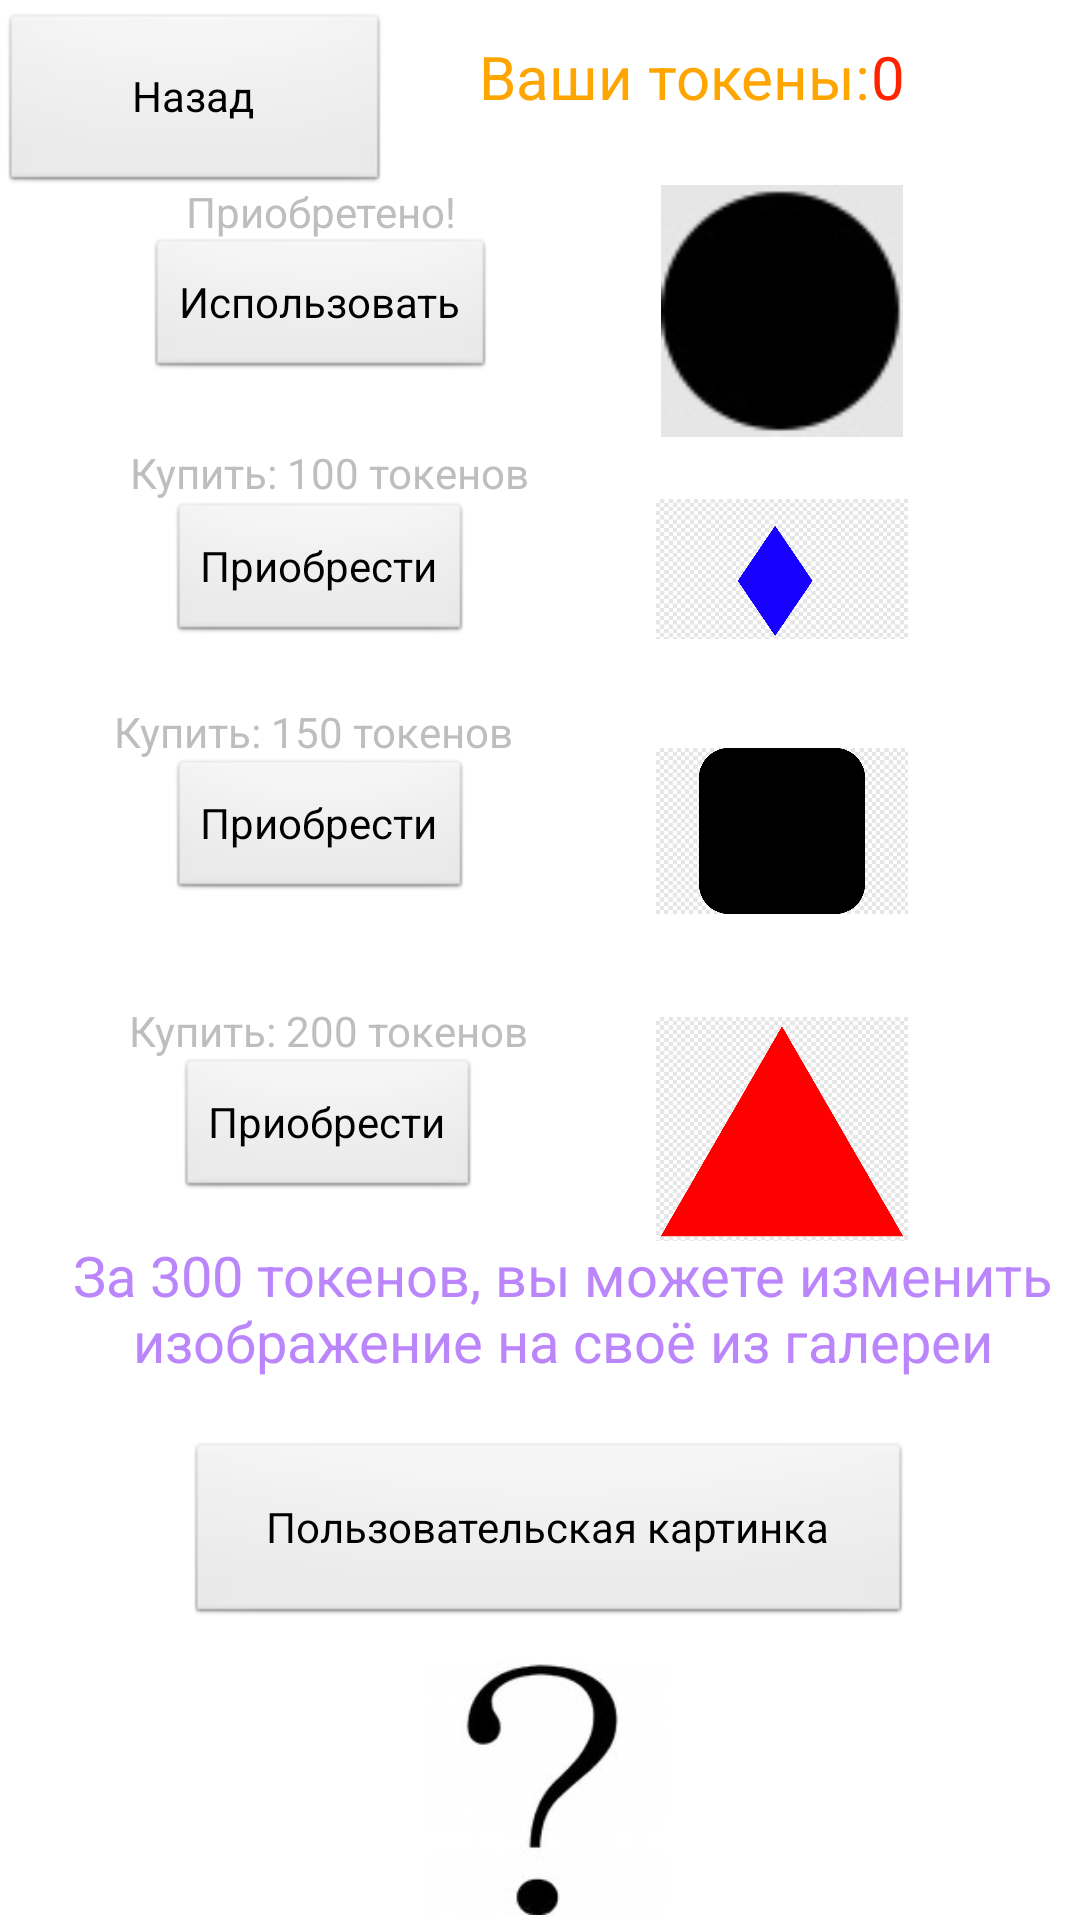

Icons on this 1080 × 1920 Android screen, each with the point to tap as (x,y):
krug: (782,311)
kvadrat: (782,831)
treug: (782,1129)
vopros: (542,1789)
